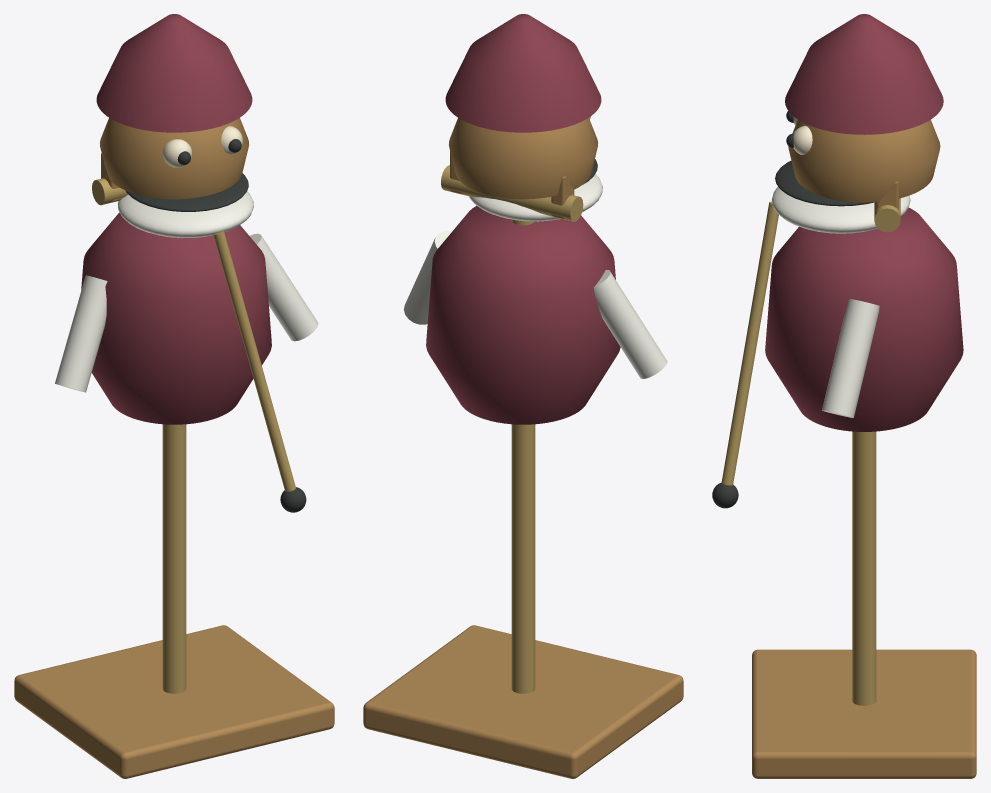
Rendered from abandoned-puppet-theatre-and-prop-vault-hinged-jaw-rod-2ca87fb9__31083.glb.
3 renders of one model, left to right at view 1: azimuth 30°, elevation 25°; view 2: azimuth 150°, elevation 25°; view 3: azimuth 270°, elevation 25°, orthographic.
Parts seen in each view (by area): view 1: hinged-jaw-rod-puppet; view 2: hinged-jaw-rod-puppet; view 3: hinged-jaw-rod-puppet.
Part boxes in pixels (box(x1,y1,x2,y2)): hinged-jaw-rod-puppet: box(14, 14, 334, 778); hinged-jaw-rod-puppet: box(363, 14, 683, 778); hinged-jaw-rod-puppet: box(712, 14, 976, 778).
Bounding box in the file's own units: 0.46 × 1.18 × 0.4.
